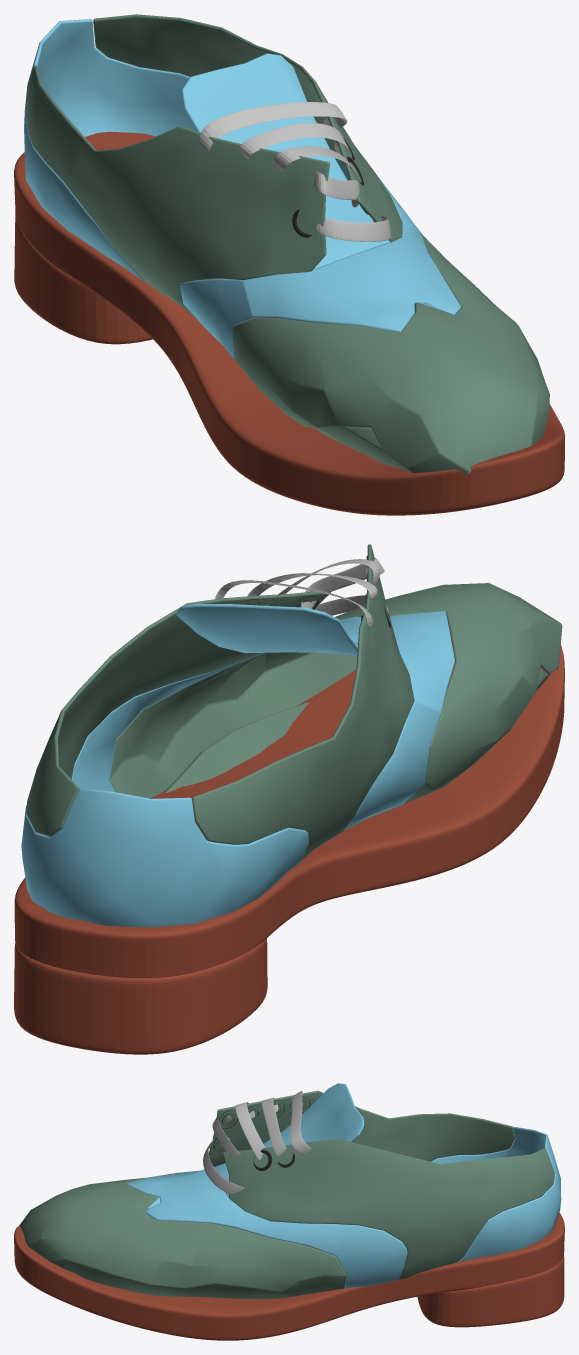
File: za2pri3izquierda.fbx
The picture shows the model from 3 angles, top to bottom: view 1: azimuth 30°, elevation 25°; view 2: azimuth 150°, elevation 25°; view 3: azimuth 270°, elevation 25°; orthographic projection. The views are drawn at different scales.
Parts seen in each view (by area): view 1: zapato2, Plane, Plane.004, Plane.003, Plane.005, Plane.002, Plane.001; view 2: zapato2, Plane, Plane.002, Plane.003, Plane.005, Plane.004; view 3: zapato2, Plane, Plane.001, Plane.003, Plane.004, Plane.005, Plane.002.
Part boxes in pixels (left/top/right/bottom): zapato2: left=24, top=14, right=549, bottom=474; Plane: left=14, top=131, right=564, bottom=515; Plane.004: left=198, top=102, right=347, bottom=154; Plane.003: left=239, top=123, right=348, bottom=159; Plane.005: left=316, top=216, right=391, bottom=241; Plane.002: left=313, top=171, right=359, bottom=207; Plane.001: left=273, top=146, right=356, bottom=174; zapato2: left=21, top=544, right=562, bottom=927; Plane: left=14, top=626, right=564, bottom=1054; Plane.002: left=301, top=558, right=384, bottom=608; Plane.003: left=247, top=573, right=377, bottom=610; Plane.005: left=314, top=595, right=388, bottom=615; Plane.004: left=215, top=580, right=372, bottom=627; zapato2: left=19, top=1083, right=561, bottom=1298; Plane: left=14, top=1209, right=564, bottom=1340; Plane.001: left=235, top=1102, right=265, bottom=1160; Plane.003: left=261, top=1098, right=286, bottom=1156; Plane.004: left=290, top=1091, right=311, bottom=1154; Plane.005: left=203, top=1137, right=244, bottom=1193; Plane.002: left=212, top=1115, right=240, bottom=1155.
Bounding box in the file's own units: 169 × 176 × 447.
